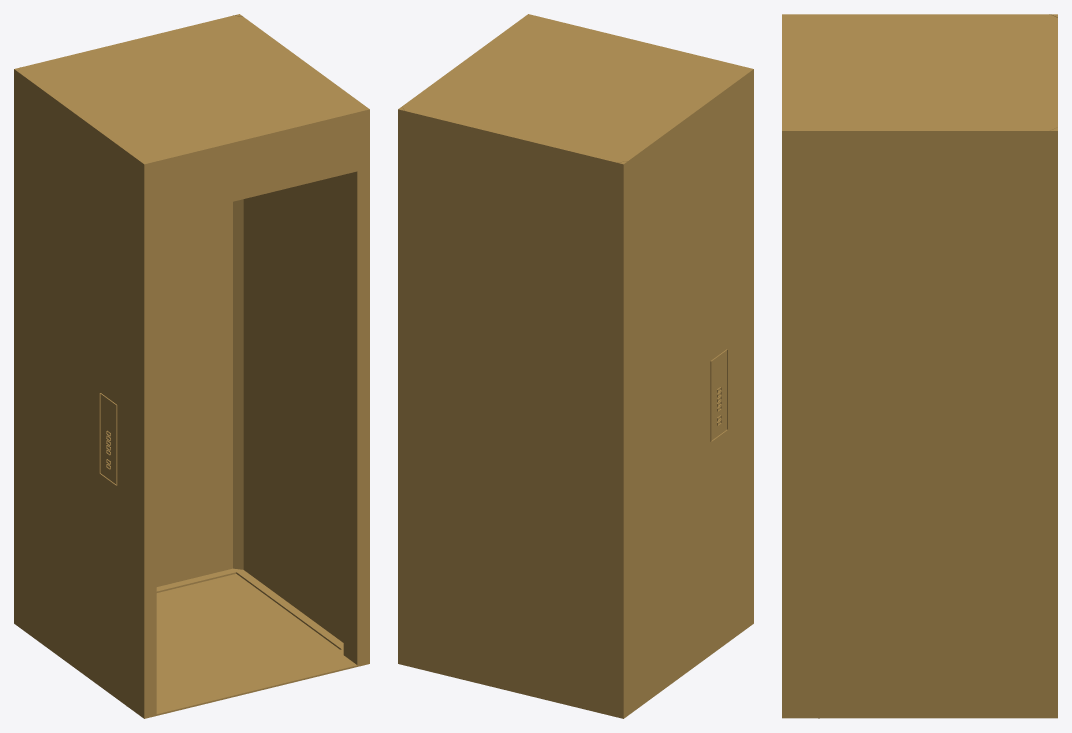
Rendered from elevator_cabin_01.fbx.
3 views of the same model, side by side, from view 1: azimuth 30°, elevation 25°; view 2: azimuth 150°, elevation 25°; view 3: azimuth 270°, elevation 25° (orthographic). The views are drawn at different scales.
Visible parts, largest first — view 1: pCube2; view 2: pCube2; view 3: pCube2.
Boxes of the visible parts, <box> form: pCube2: <box>14,14,369,718</box>; pCube2: <box>398,14,753,718</box>; pCube2: <box>782,14,1057,718</box>.
Size of the model in its own units: 100 by 235 by 100.
